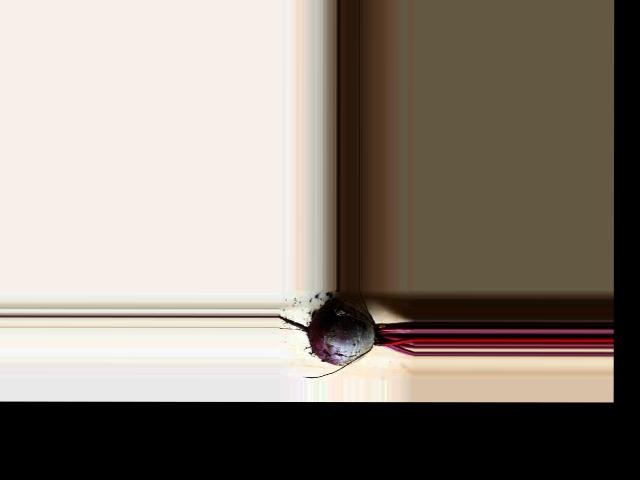beet: (277, 298, 413, 378)
